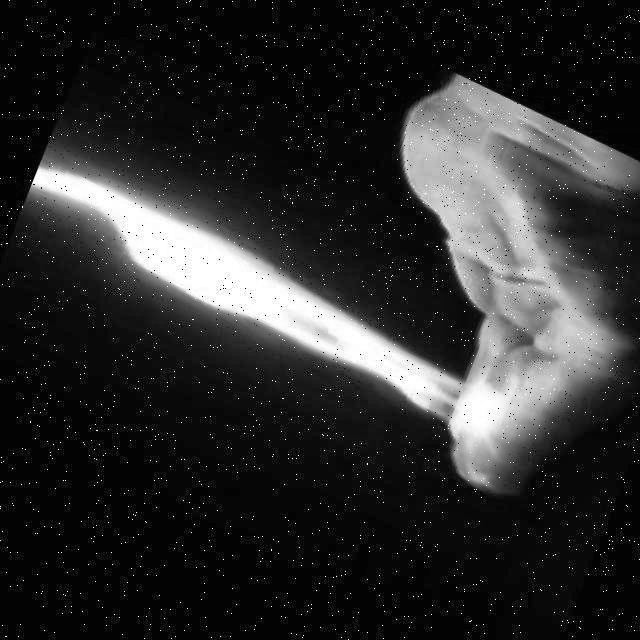Fire: (12, 125, 537, 457)
